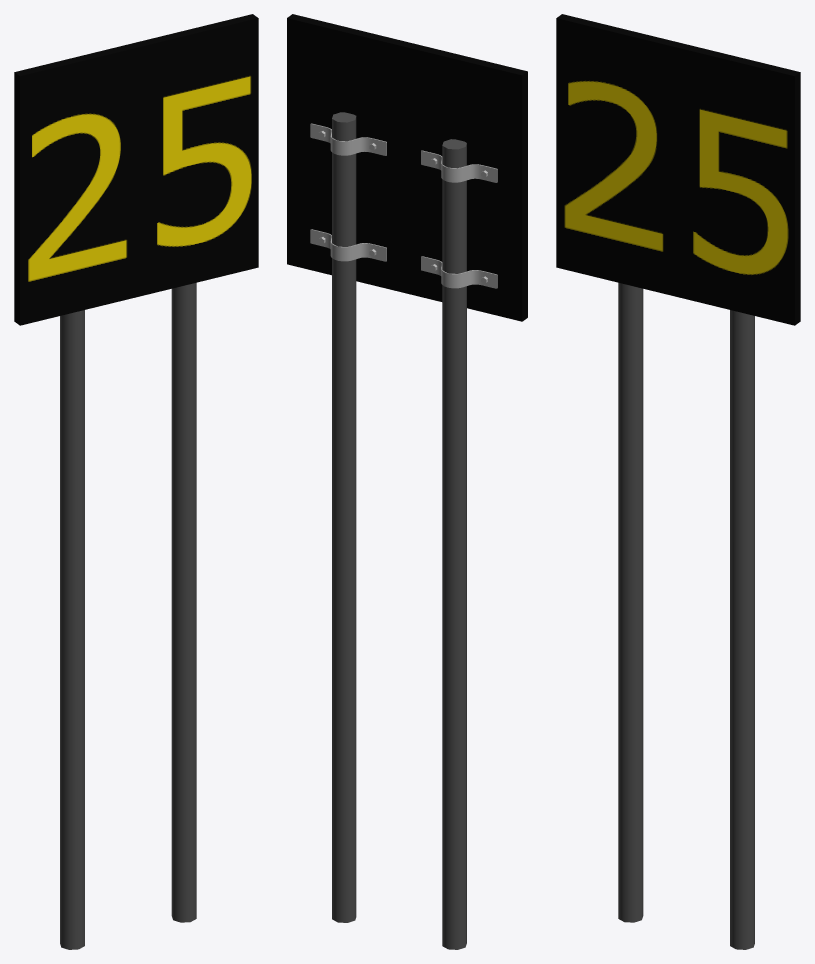
File: ncl_airport_sign.glb
3 views of the same model, side by side, from view 1: azimuth 30°, elevation 25°; view 2: azimuth 150°, elevation 25°; view 3: azimuth 330°, elevation 25° (orthographic).
Visible parts, largest first — view 1: Cube_2, Cylinder_3; view 2: Cube_2, Cylinder_3, Plane_1; view 3: Cube_2, Cylinder_3.
Part boxes in pixels (left/top/right/bottom): Cube_2: left=14, top=14, right=258, bottom=325; Cylinder_3: left=60, top=282, right=196, bottom=949; Cube_2: left=287, top=14, right=527, bottom=321; Cylinder_3: left=332, top=112, right=466, bottom=949; Plane_1: left=310, top=123, right=497, bottom=288; Cube_2: left=556, top=14, right=800, bottom=325; Cylinder_3: left=618, top=282, right=754, bottom=949.
Size of the model in its own units: 1 by 3.58 by 0.1286.
4 materials, 1 textured.
